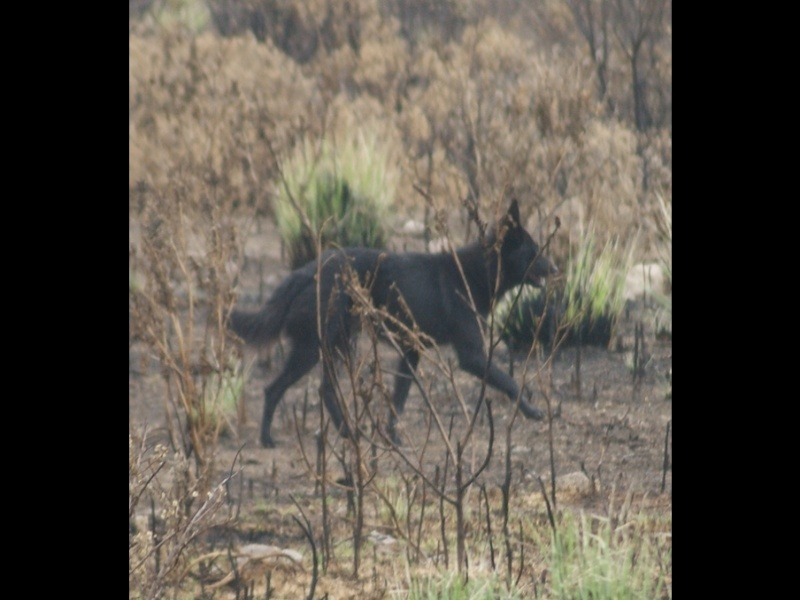dog: (222, 195, 562, 463)
